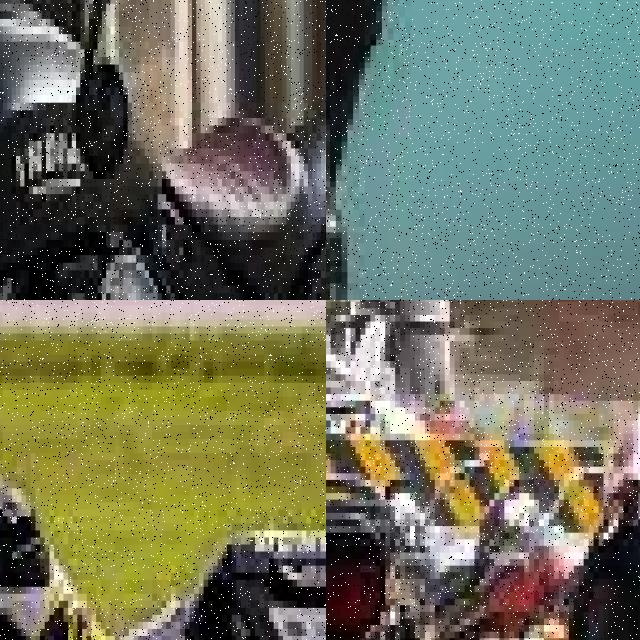bike: (0, 0, 326, 300), (0, 340, 326, 640), (395, 486, 554, 640), (326, 433, 440, 640)
